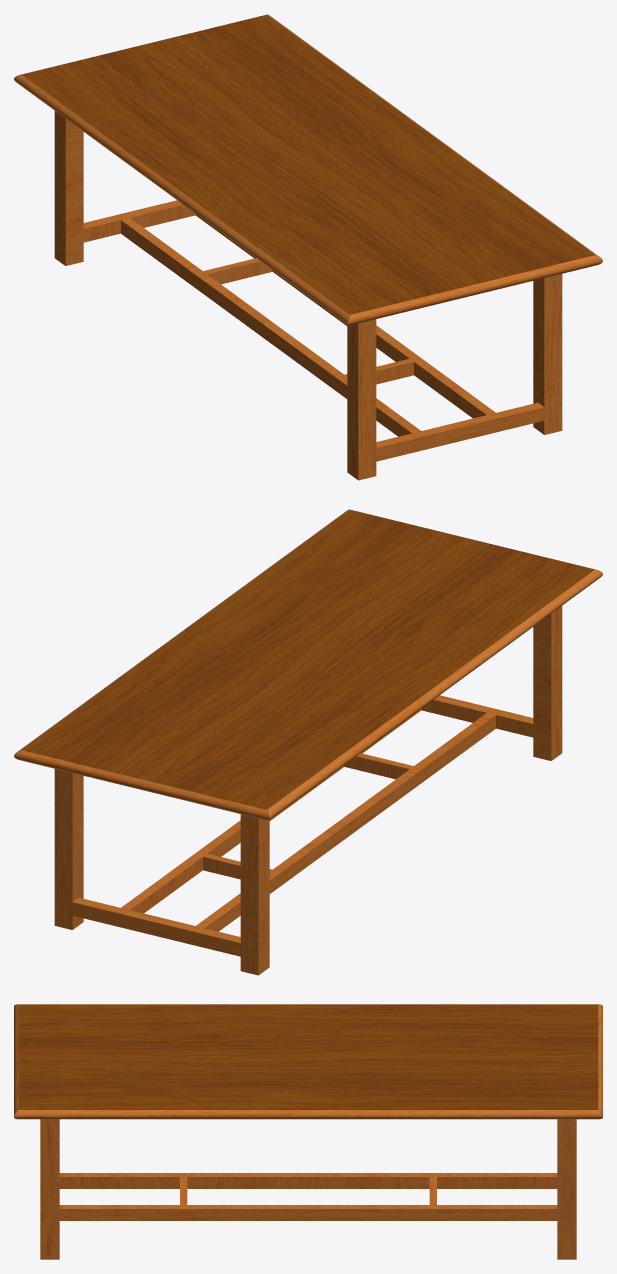
Rendered from lib_table.fbx.
3 views of the same model, one above another, from view 1: azimuth 30°, elevation 25°; view 2: azimuth 150°, elevation 25°; view 3: azimuth 270°, elevation 25° (orthographic). The views are drawn at different scales.
Visible parts, largest first — view 1: table_LOD0; view 2: table_LOD0; view 3: table_LOD0.
Boxes of the visible parts, x1,y1,x2,y2 form: table_LOD0: (14, 14, 602, 480); table_LOD0: (14, 509, 602, 975); table_LOD0: (14, 1004, 602, 1259).
Size of what is drawn, in the model's own units: 112 by 75.57 by 254.
